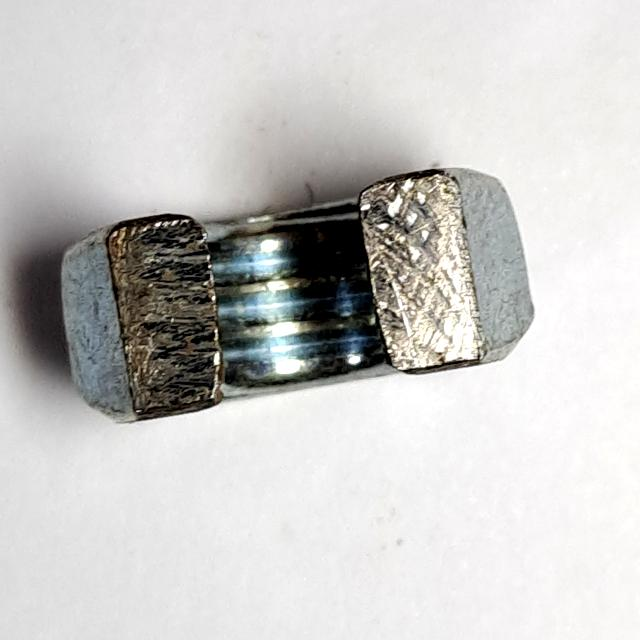Side-Fracture: (53, 154, 547, 454)
